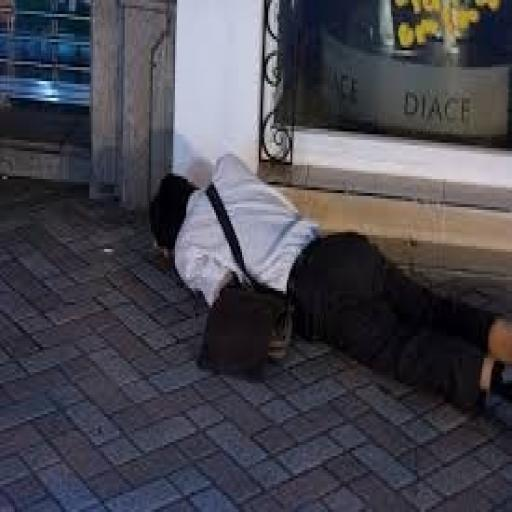sleeping: (145, 148, 510, 417)
